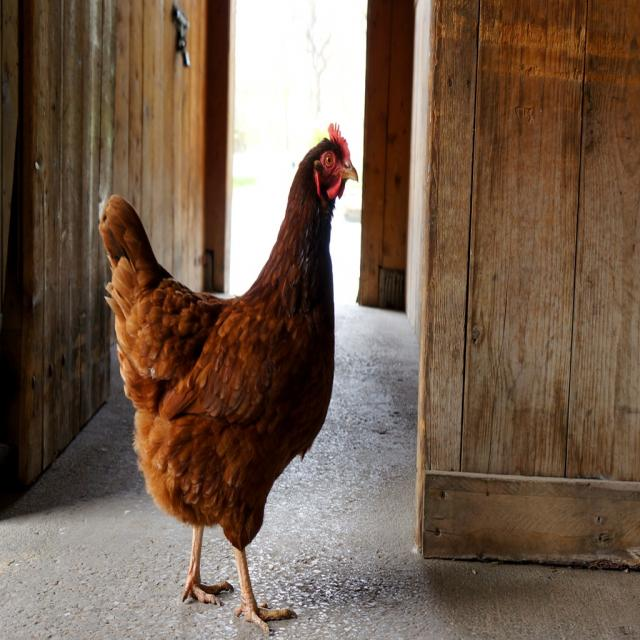Chicken: (98, 121, 362, 634)
